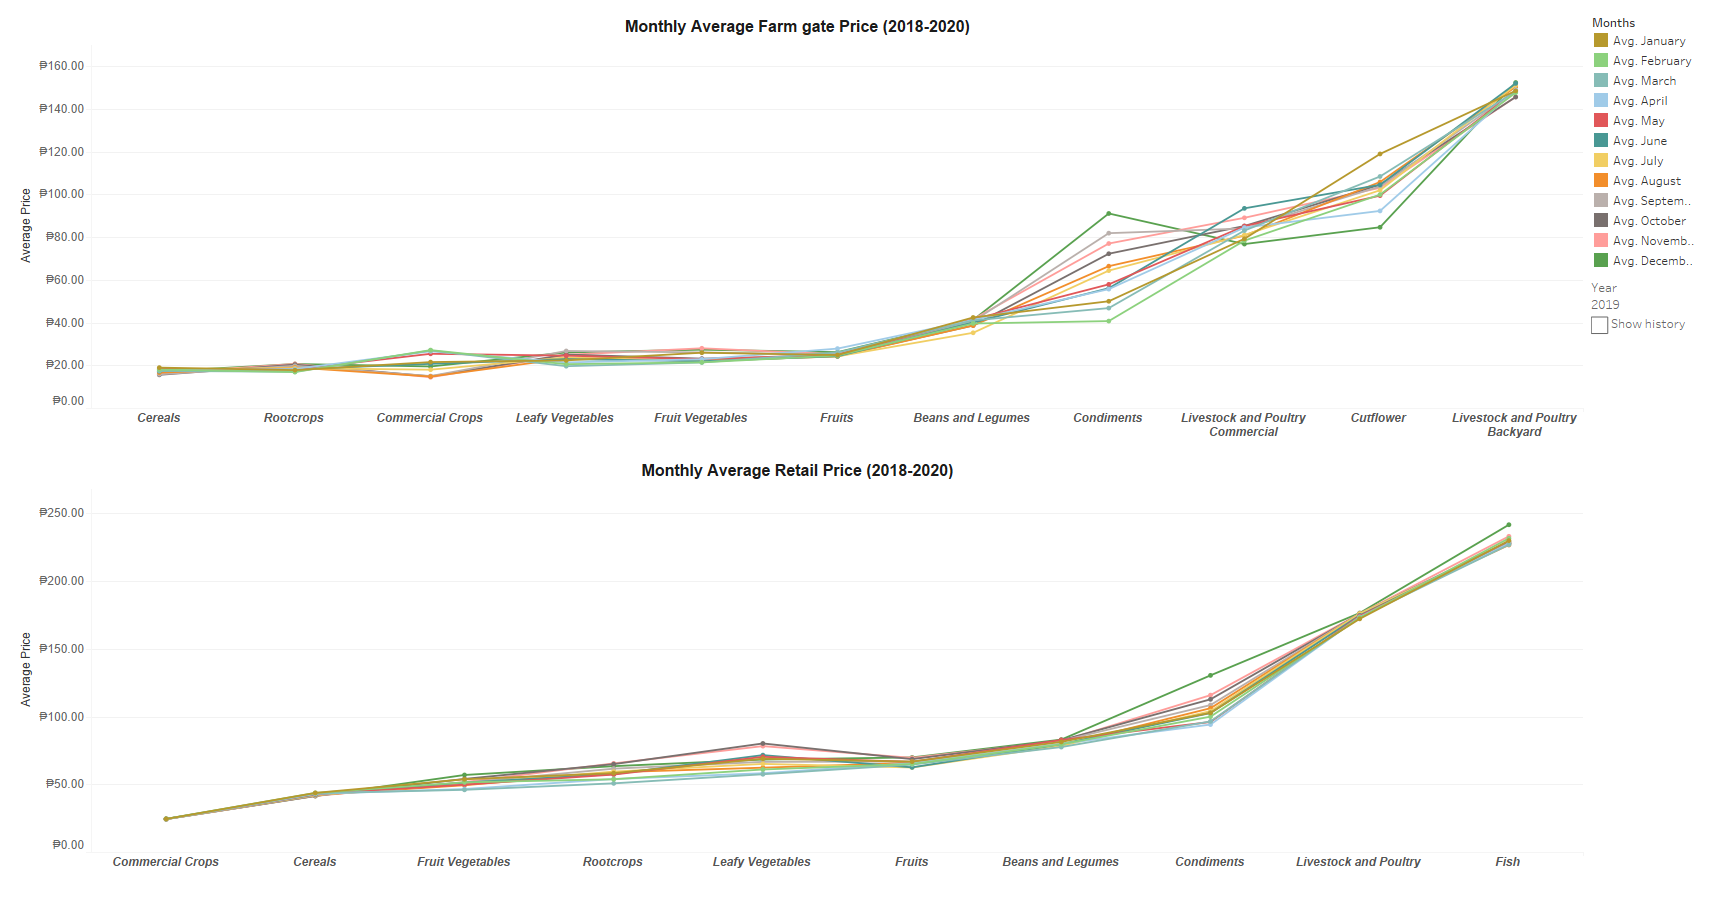

The dashboard page shown, as its layout file describes it:
{"tool":"tableau","page":{"name":"Objective 2","canvas":[1000,1000],"units":"permille","ordinal":2},"visuals":[{"type":"worksheet","title":"Farmgate Price per Month in the past 3 years","mark":"Line","cols":["Type of Commodity"],"box":[4.7,8.8,923.9,491.2]},{"type":"legend","title":"Retail Price per Month in the past 3 years","param":"[federated.11yr58t03ajr2j1fum0s00oflgma].[:Measure Names]","box":[928.6,8.8,66.7,294.2]},{"type":"currpage","title":"Retail Price per Month in the past 3 years","box":[928.6,303.1,66.7,77.4]},{"type":"worksheet","title":"Retail Price per Month in the past 3 years","mark":"Line","cols":["Type of Commodity"],"box":[4.7,500,923.9,491.2]}]}

Visuals, with their boxes on the dashboard's canvas, which has no fixed pixel size, in thousandths of its width and height (x1, y1, x2, y2). These are canvas units, not pixel positions in the 1709x904 screenshot, which may show the page scaled, cropped or inside an application window:
"Farmgate Price per Month in the past 3 years" worksheet (Line marks): 5 9 929 500
"Retail Price per Month in the past 3 years" legend: 929 9 995 303
"Retail Price per Month in the past 3 years" currpage: 929 303 995 380
"Retail Price per Month in the past 3 years" worksheet (Line marks): 5 500 929 991
